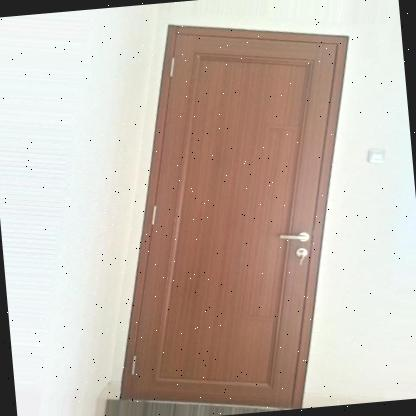door: (99, 6, 373, 416)
